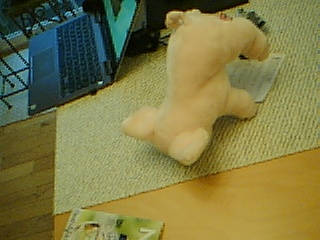piggy: (120, 8, 274, 170)
